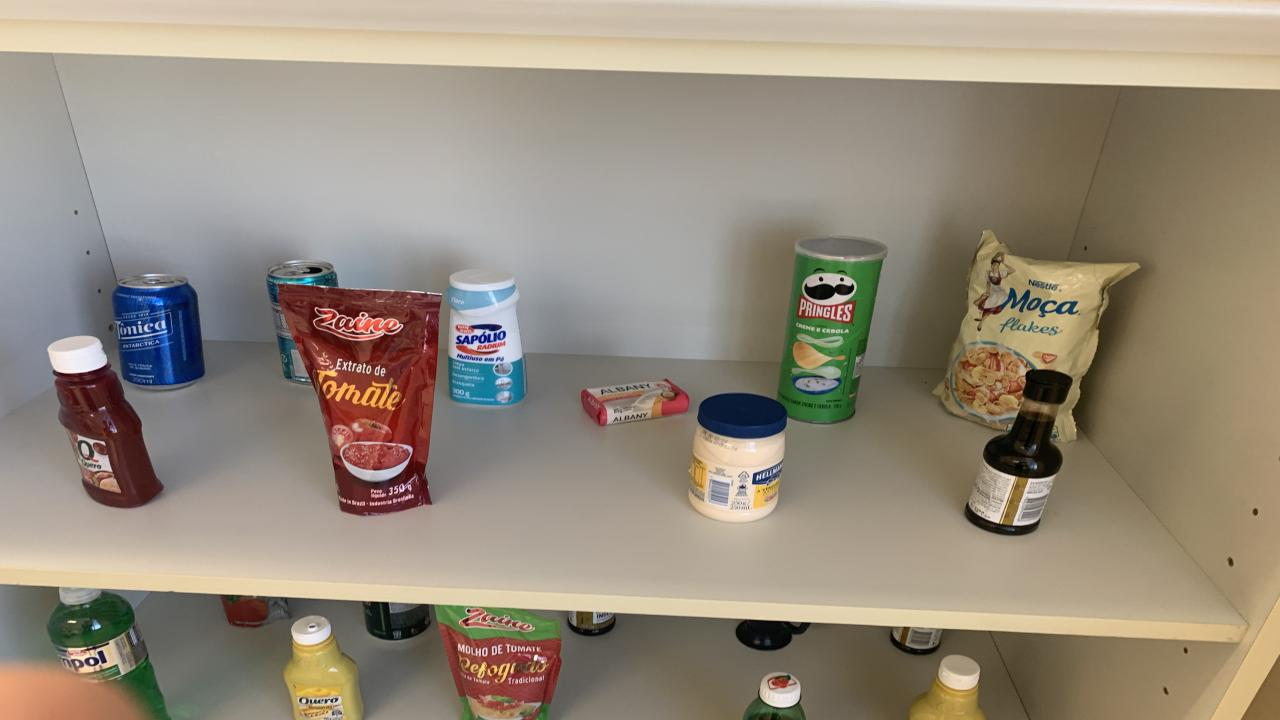Cleaner-Cleanup_Items: (445, 270, 525, 405)
Detergent-Cleanup_Items: (48, 587, 170, 718)
English_Sauce-Pantry_Items: (965, 369, 1072, 534), (890, 626, 942, 654), (568, 611, 618, 636)
Flakes-Snacks: (932, 231, 1138, 442)
Guarana-Drinks: (742, 673, 805, 720)
Guarana_Can-Drinks: (362, 602, 430, 639)
Ketchup-Pantry_Items: (48, 336, 162, 508)
Mayonnaise-Pantry_Items: (690, 392, 788, 521)
Mustard-Pantry_Items: (285, 615, 362, 720), (910, 654, 985, 720)
Pringles-Snacks: (778, 236, 888, 424)
Soap-Cleanup_Items: (580, 379, 690, 426)
Tea-Drinks: (268, 261, 338, 384)
Tomato_Sauce-Pantry_Items: (278, 285, 442, 514), (435, 606, 562, 720), (220, 594, 290, 628)
Tonic-Drinks: (112, 274, 205, 390)
